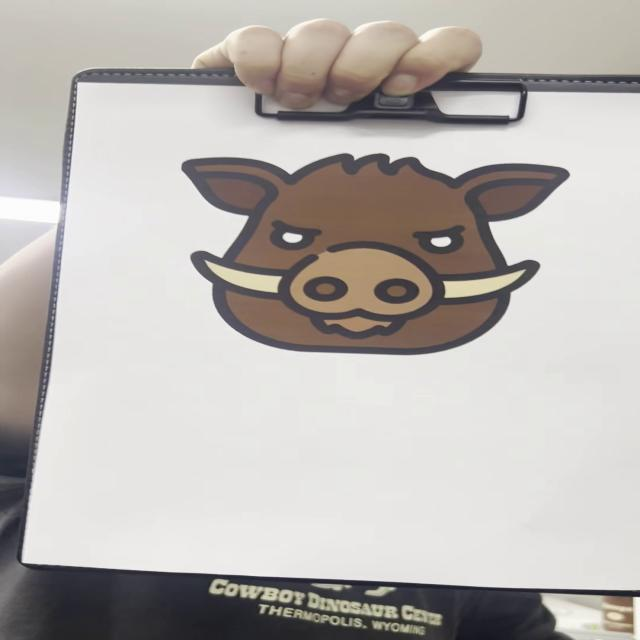animal: (186, 150, 573, 359)
